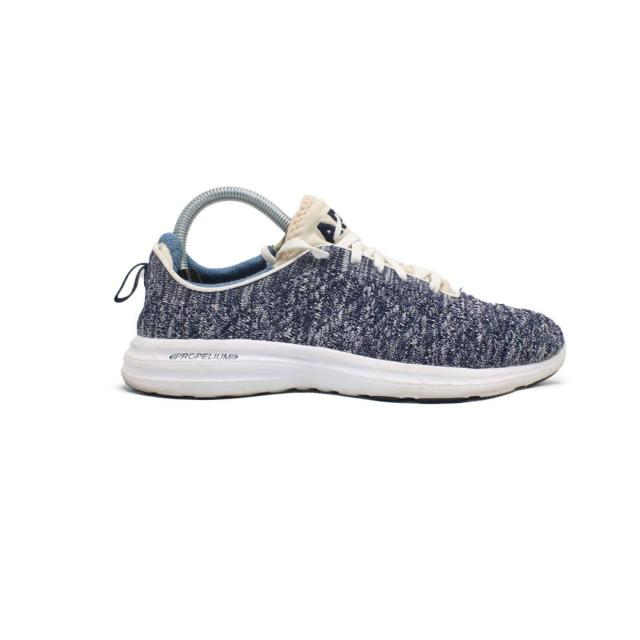heel: (137, 234, 203, 339)
midsole: (123, 335, 565, 404)
uppersole: (199, 197, 565, 368)
